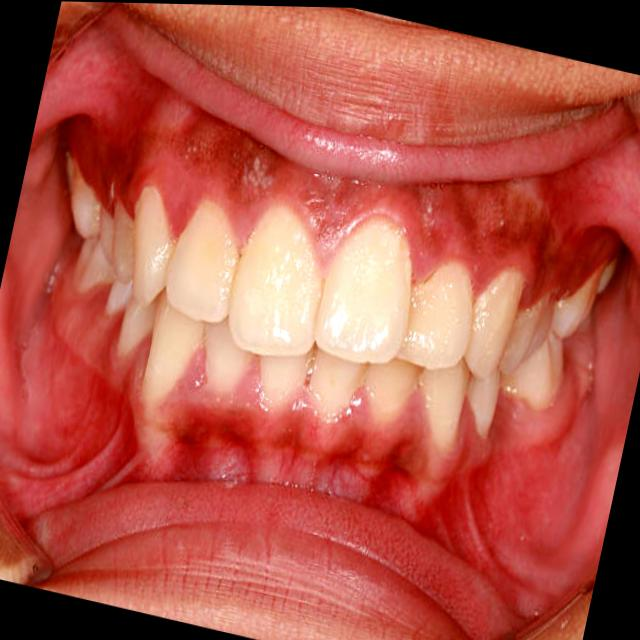gingivitis: (87, 104, 605, 308), (137, 371, 490, 519)
